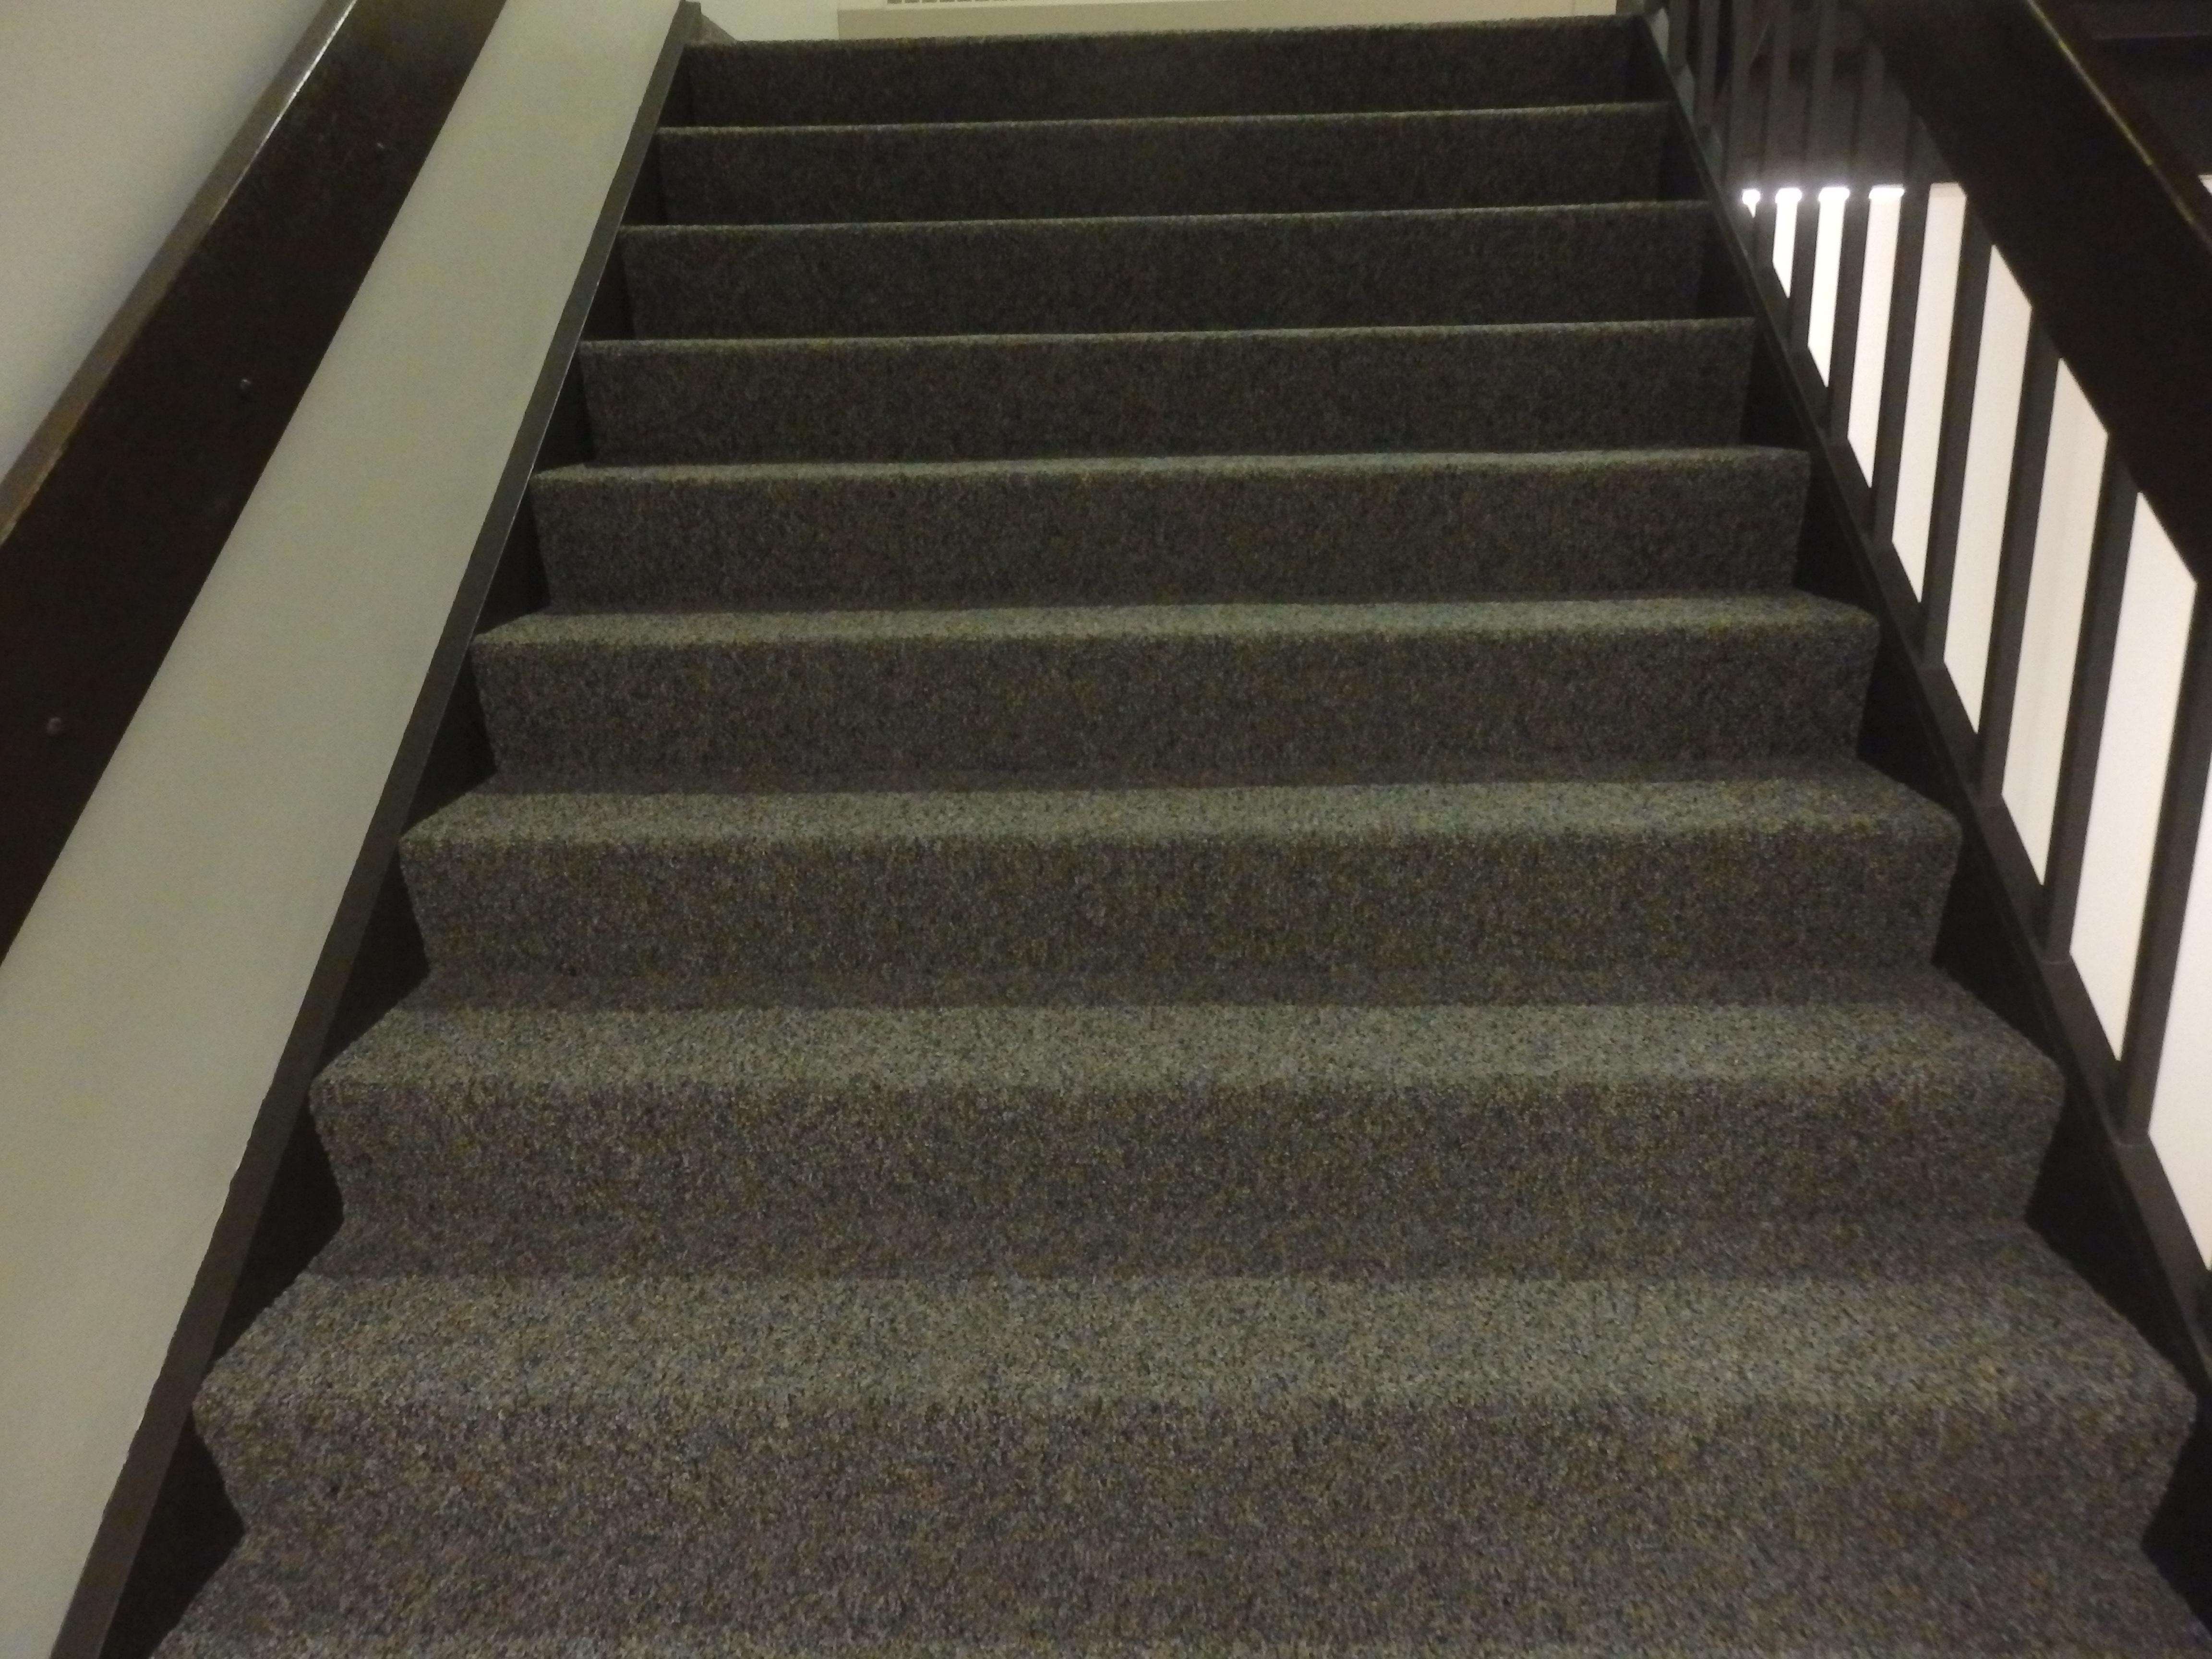stairs_up: (362, 21, 2134, 1556)
